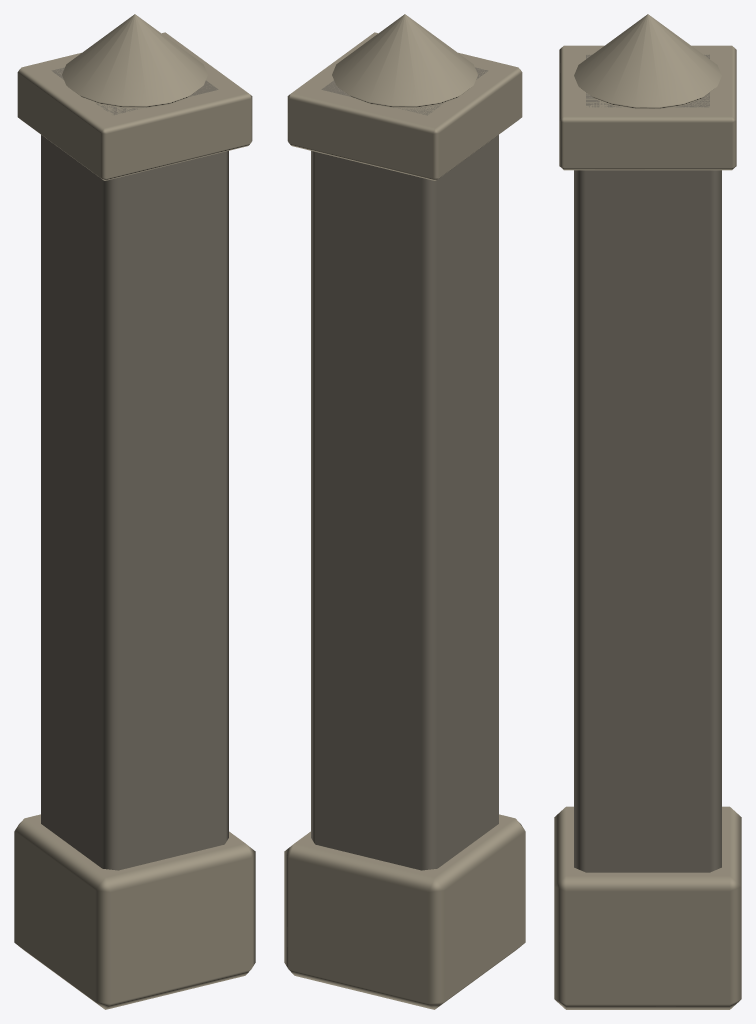
File: stone-halls-post-x.f7535a01.glb
3 renders of one model, left to right at view 1: azimuth 30°, elevation 25°; view 2: azimuth 150°, elevation 25°; view 3: azimuth 270°, elevation 25°, orthographic.
Visible parts, largest first — view 1: body; view 2: body; view 3: body.
Part boxes in pixels (x1,y1,x2,y2): body: [14, 14, 255, 1009]; body: [284, 14, 525, 1009]; body: [554, 14, 741, 1009].
Bounding box in the file's own units: 0.38 × 2.15 × 0.38.
